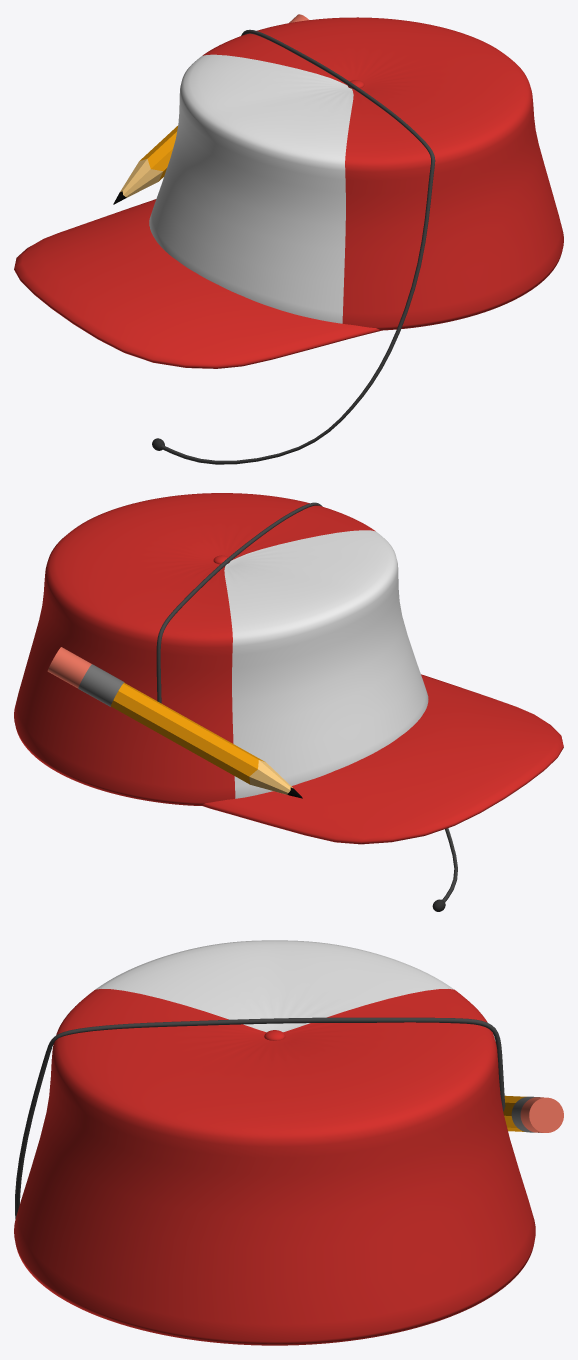
The picture shows the model from 3 angles, top to bottom: view 1: azimuth 30°, elevation 25°; view 2: azimuth 150°, elevation 25°; view 3: azimuth 270°, elevation 25°; orthographic projection. The views are drawn at different scales.
Visible parts, largest first — view 1: Circle.002, Circle.005, Cylinder.014; view 2: Circle.002, Cylinder.014, Circle.005; view 3: Circle.002, Circle.005, Cylinder.014.
Part boxes in pixels (box(x1,y1,x2,y2)): Circle.002: box(14, 17, 563, 368); Circle.005: box(152, 29, 435, 464); Cylinder.014: box(113, 14, 308, 204); Circle.002: box(14, 493, 563, 844); Cylinder.014: box(47, 647, 302, 798); Circle.005: box(156, 502, 457, 911); Circle.002: box(14, 940, 535, 1345); Circle.005: box(15, 1017, 505, 1218); Cylinder.014: box(503, 1095, 563, 1132).
Size of the model in its own units: 320 by 199 by 250.
